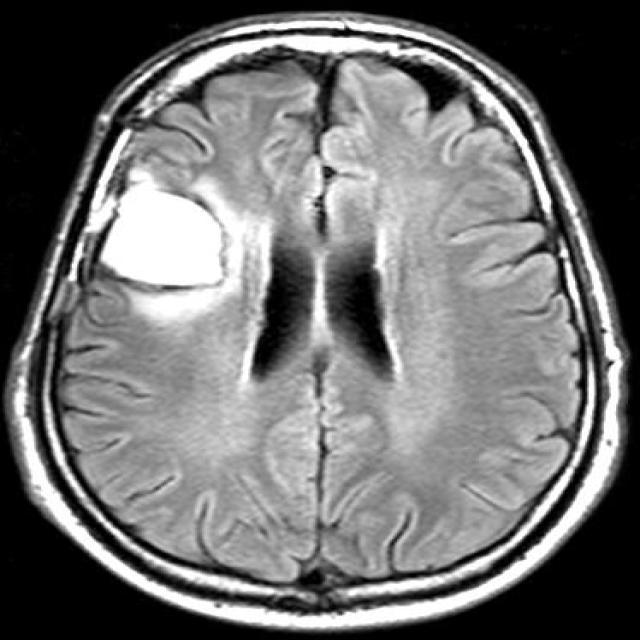brain tumor: (98, 192, 221, 285)
